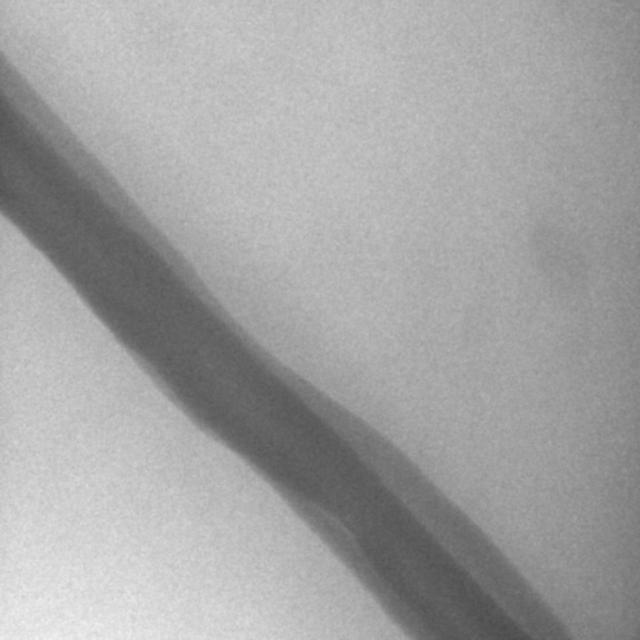unfused: (302, 497, 362, 553)
